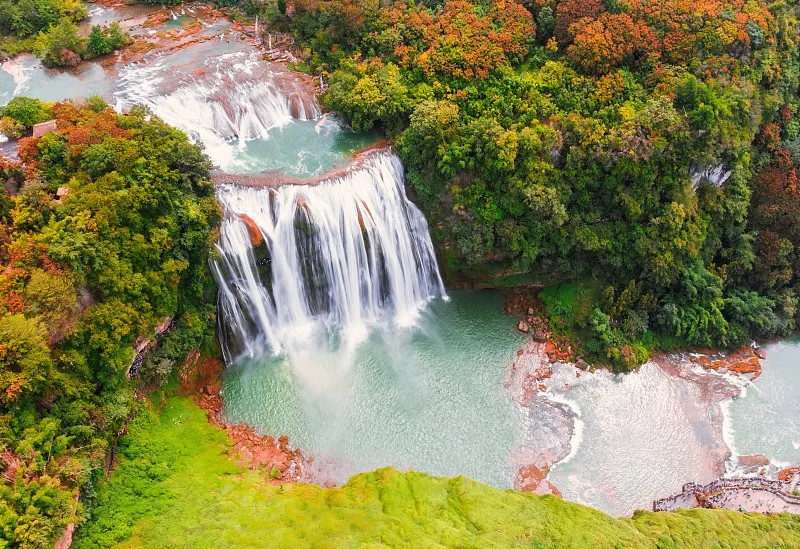Huangguoshu: (182, 98, 448, 356)
